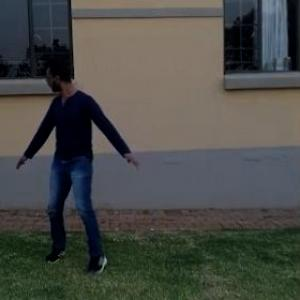land: (10, 46, 137, 267)
